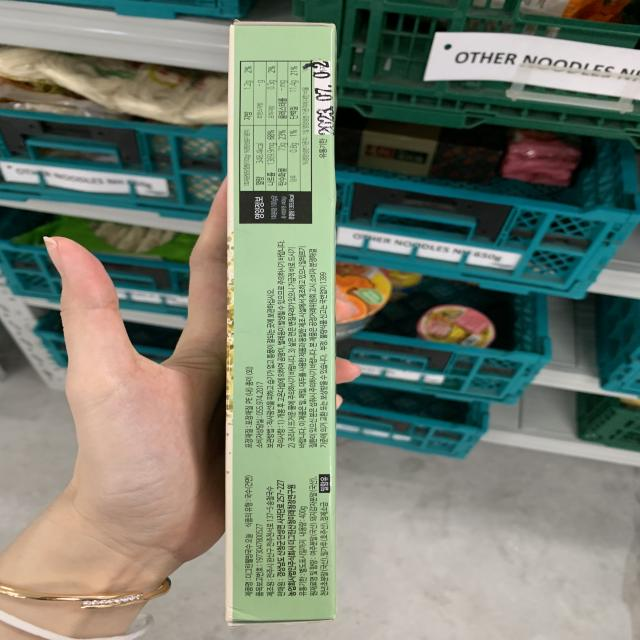object_name: (235, 26, 328, 611)
